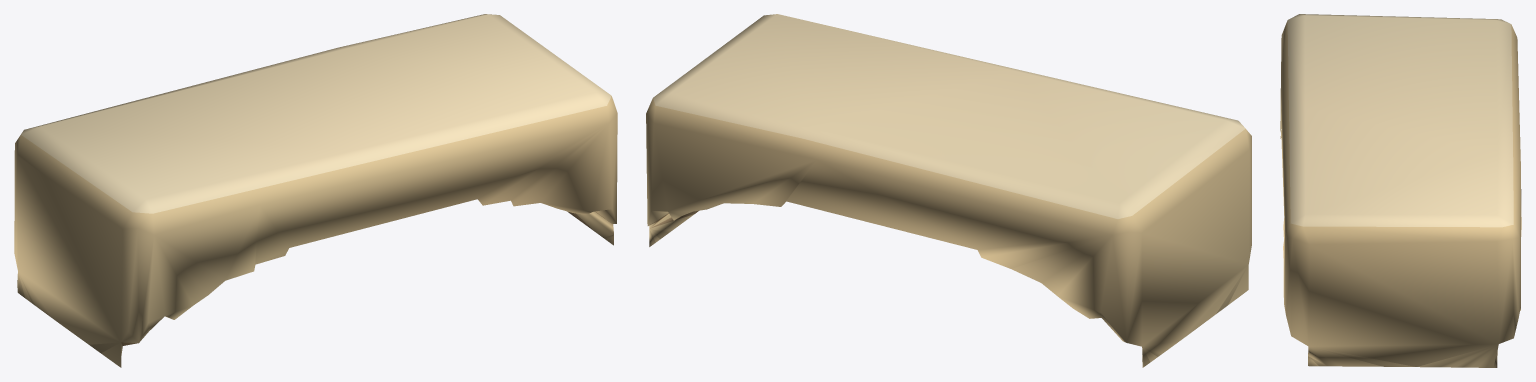
The model's file is shore_castle_arch_lod2.glb.
3 renders of one model, left to right at view 1: azimuth 30°, elevation 25°; view 2: azimuth 150°, elevation 25°; view 3: azimuth 270°, elevation 25°, orthographic. The views are drawn at different scales.
Visible parts, largest first — view 1: shore_castle_arch.001; view 2: shore_castle_arch.001; view 3: shore_castle_arch.001.
Part boxes in pixels (box(x1,y1,x2,y2)): shore_castle_arch.001: box(14, 14, 617, 367); shore_castle_arch.001: box(646, 14, 1251, 367); shore_castle_arch.001: box(1280, 14, 1521, 367).
Bounding box in the file's own units: 6.45 × 2.06 × 3.04.
